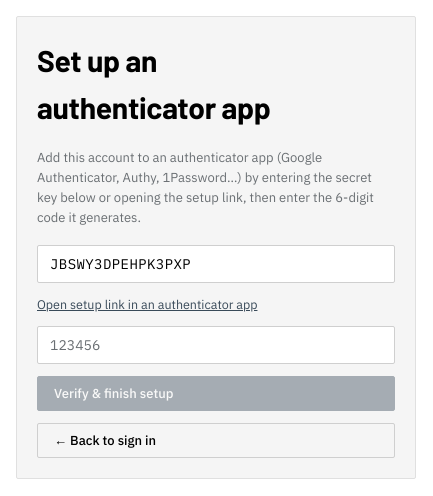
Test: Login › lets the TOTP enroll view go back to sign in
This screenshot has width=433, height=496.
Click the button "← Back to sign in". click: (105, 440)
box: [37, 423, 395, 458]
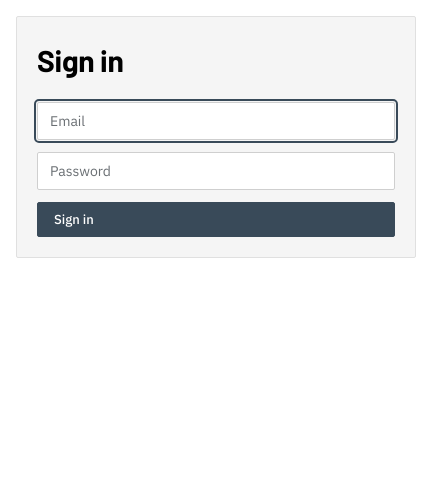
Check: the password field labelled "Password" is shown, box [37, 152, 395, 190]
Check: the text labelled "6-digit" is gone
